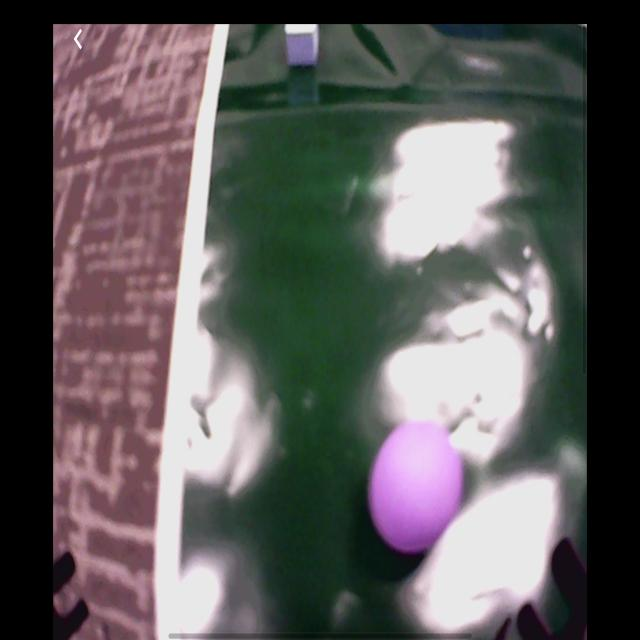ball: (371, 422, 462, 553)
